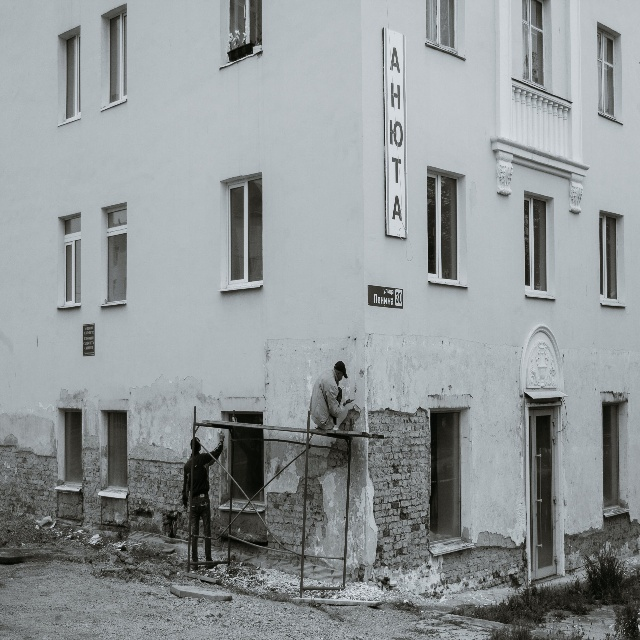Guantes: (219, 429, 226, 442), (338, 401, 345, 413), (182, 502, 188, 511)
